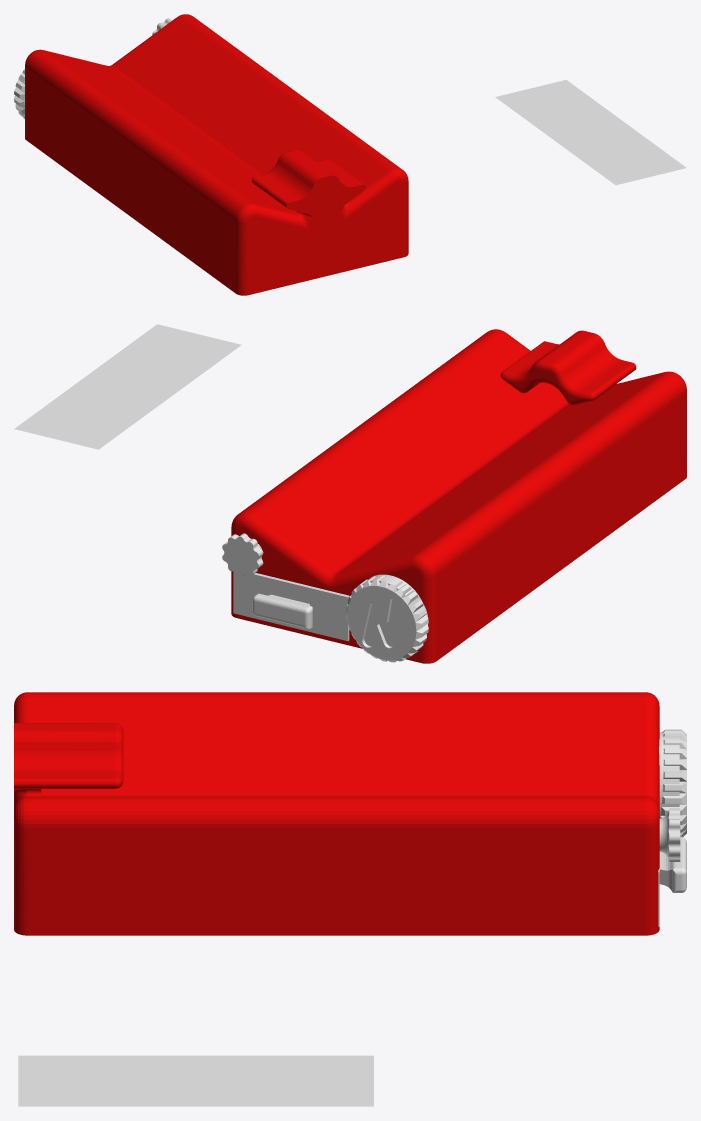
The model's file is iAnimation.glb.
3 renders of one model, top to bottom at view 1: azimuth 30°, elevation 25°; view 2: azimuth 150°, elevation 25°; view 3: azimuth 270°, elevation 25°, orthographic. The views are drawn at different scales.
Parts seen in each view (by area): view 1: Bridge, Plane; view 2: Bridge, Plane, DoobLid, PaperTray, pokey; view 3: Bridge, Plane, DoobLid, PaperTray, pokey.
Boxes of the visible parts, x1,y1,x2,y2 form: Bridge: (25, 14, 408, 295); Plane: (495, 79, 686, 185); Bridge: (231, 329, 686, 663); Plane: (14, 324, 241, 449); DoobLid: (346, 574, 428, 662); PaperTray: (233, 571, 349, 641); pokey: (222, 533, 263, 576); Bridge: (14, 692, 659, 935); Plane: (18, 1055, 373, 1106); DoobLid: (659, 729, 686, 837); PaperTray: (658, 837, 686, 926); pokey: (659, 808, 680, 861).
Bounding box in the file's own units: 139 × 29.59 × 123.
